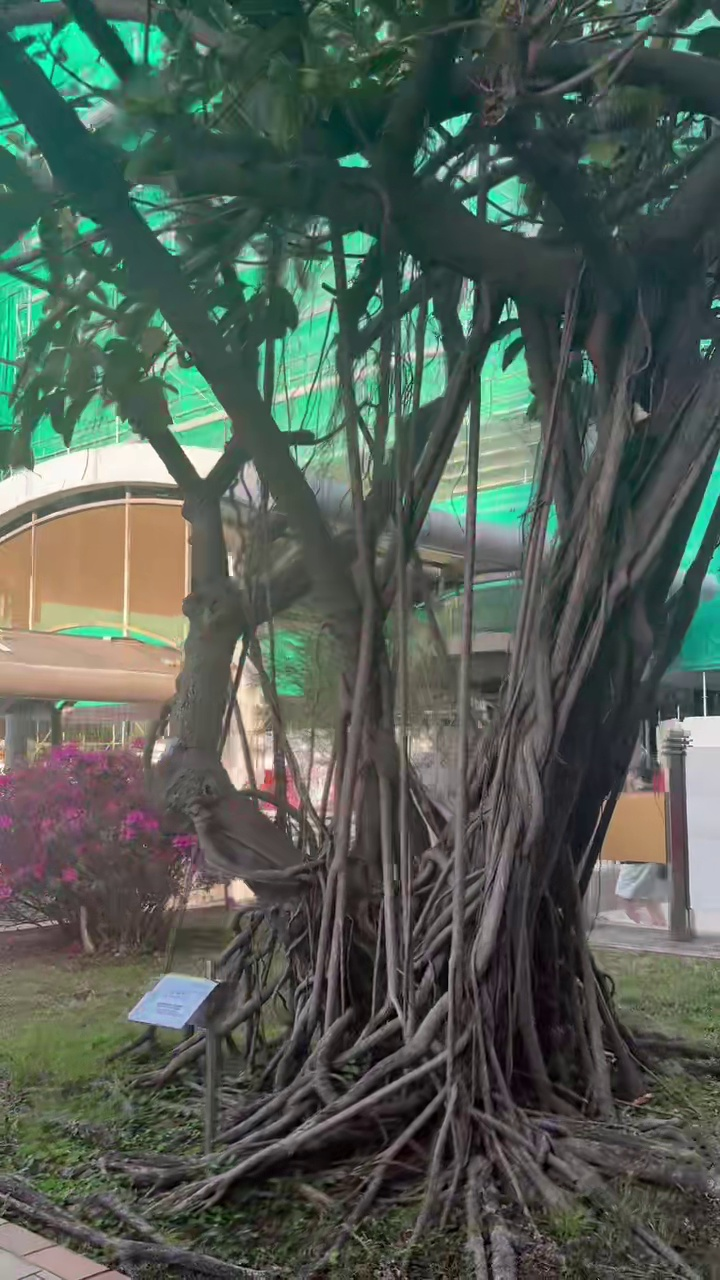Ficus elastica: (2, 0, 719, 1279)
